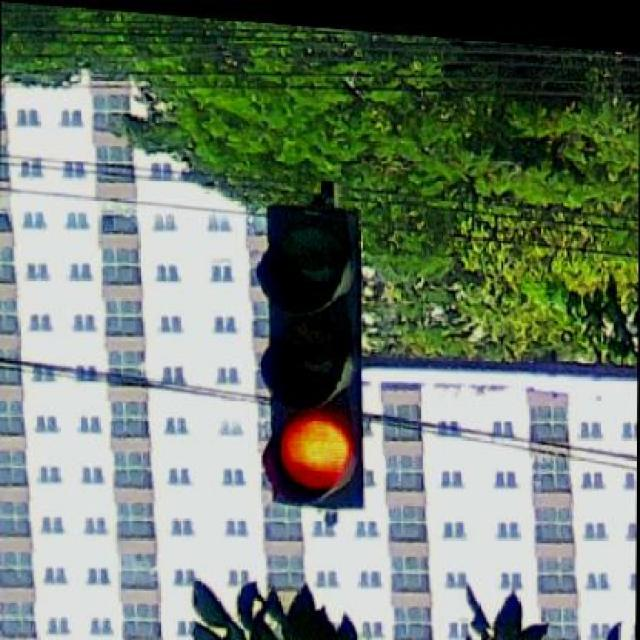traffic light: (257, 205, 364, 511)
